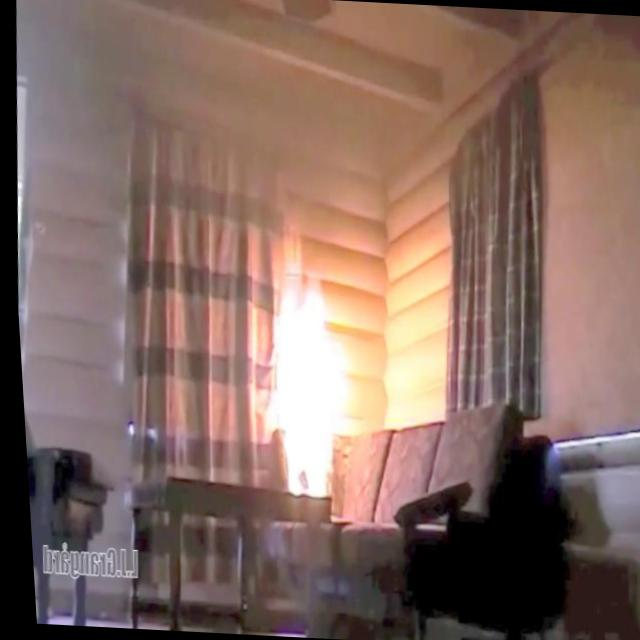fire: (232, 256, 367, 514)
